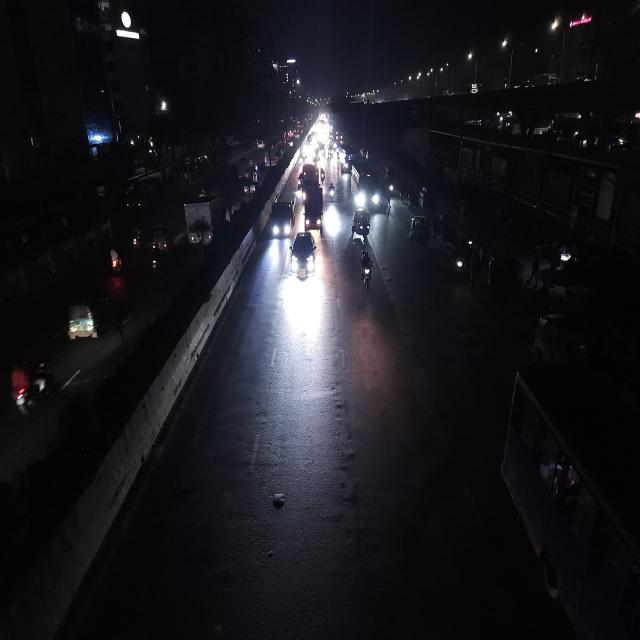bus: (498, 361, 640, 640), (350, 158, 386, 214)
car: (288, 228, 318, 281)
cng: (63, 278, 113, 347), (149, 221, 173, 273), (406, 212, 431, 248), (350, 207, 373, 244)
motorcycle: (8, 355, 56, 423), (358, 248, 374, 293), (108, 244, 124, 279), (128, 224, 144, 254), (328, 180, 337, 201)
pickup_van: (270, 192, 296, 241)
truck: (185, 194, 226, 246), (302, 187, 324, 232), (302, 165, 319, 192)
